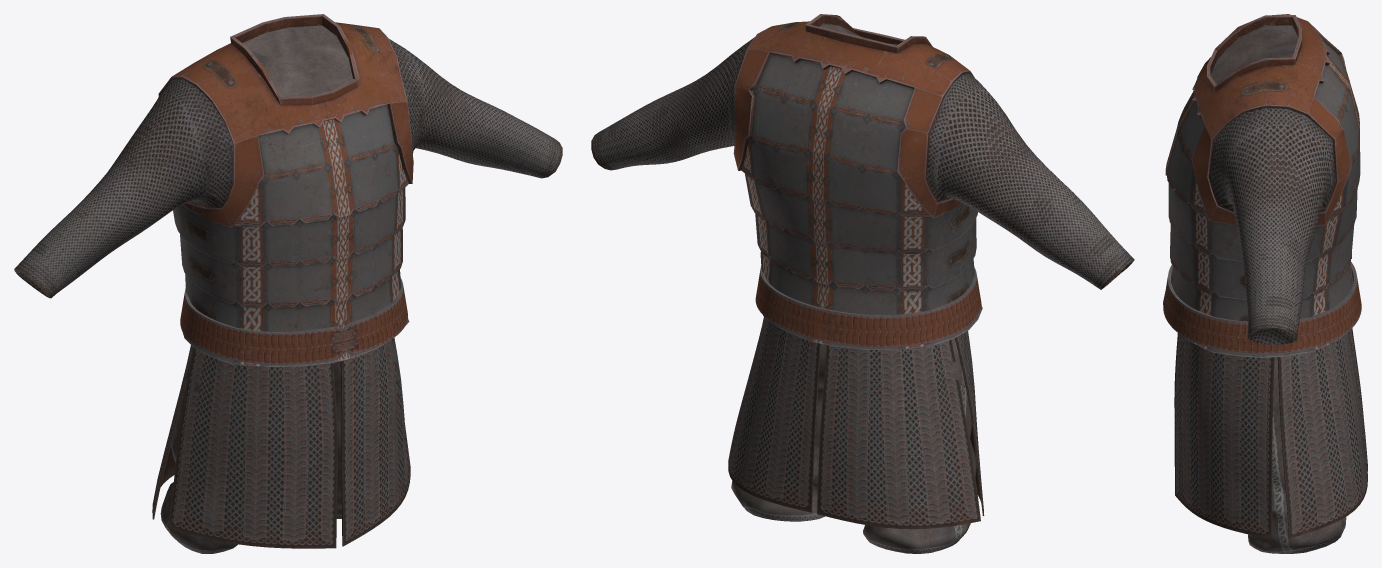
Rendered from sk_dwarf_dain_chest_med_a.fbx.
3 renders of one model, left to right at view 1: azimuth 30°, elevation 25°; view 2: azimuth 150°, elevation 25°; view 3: azimuth 270°, elevation 25°, orthographic. The views are drawn at different scales.
Parts seen in each view (by area): view 1: sk_dwarf_dain_chest_med_a.0, sk_dwarf_dain_chest_med_a.1; view 2: sk_dwarf_dain_chest_med_a.0, sk_dwarf_dain_chest_med_a.1; view 3: sk_dwarf_dain_chest_med_a.0, sk_dwarf_dain_chest_med_a.1.
Boxes of the visible parts, left/top/right/bottom form: sk_dwarf_dain_chest_med_a.0: left=14, top=14, right=562, bottom=553; sk_dwarf_dain_chest_med_a.1: left=152, top=337, right=410, bottom=548; sk_dwarf_dain_chest_med_a.0: left=591, top=14, right=1134, bottom=553; sk_dwarf_dain_chest_med_a.1: left=728, top=317, right=984, bottom=529; sk_dwarf_dain_chest_med_a.0: left=1163, top=14, right=1361, bottom=553; sk_dwarf_dain_chest_med_a.1: left=1174, top=328, right=1367, bottom=538.
Bounding box in the file's own units: 1.16 × 0.3998 × 1.03.
Materials: 2 (2 with a texture image).
